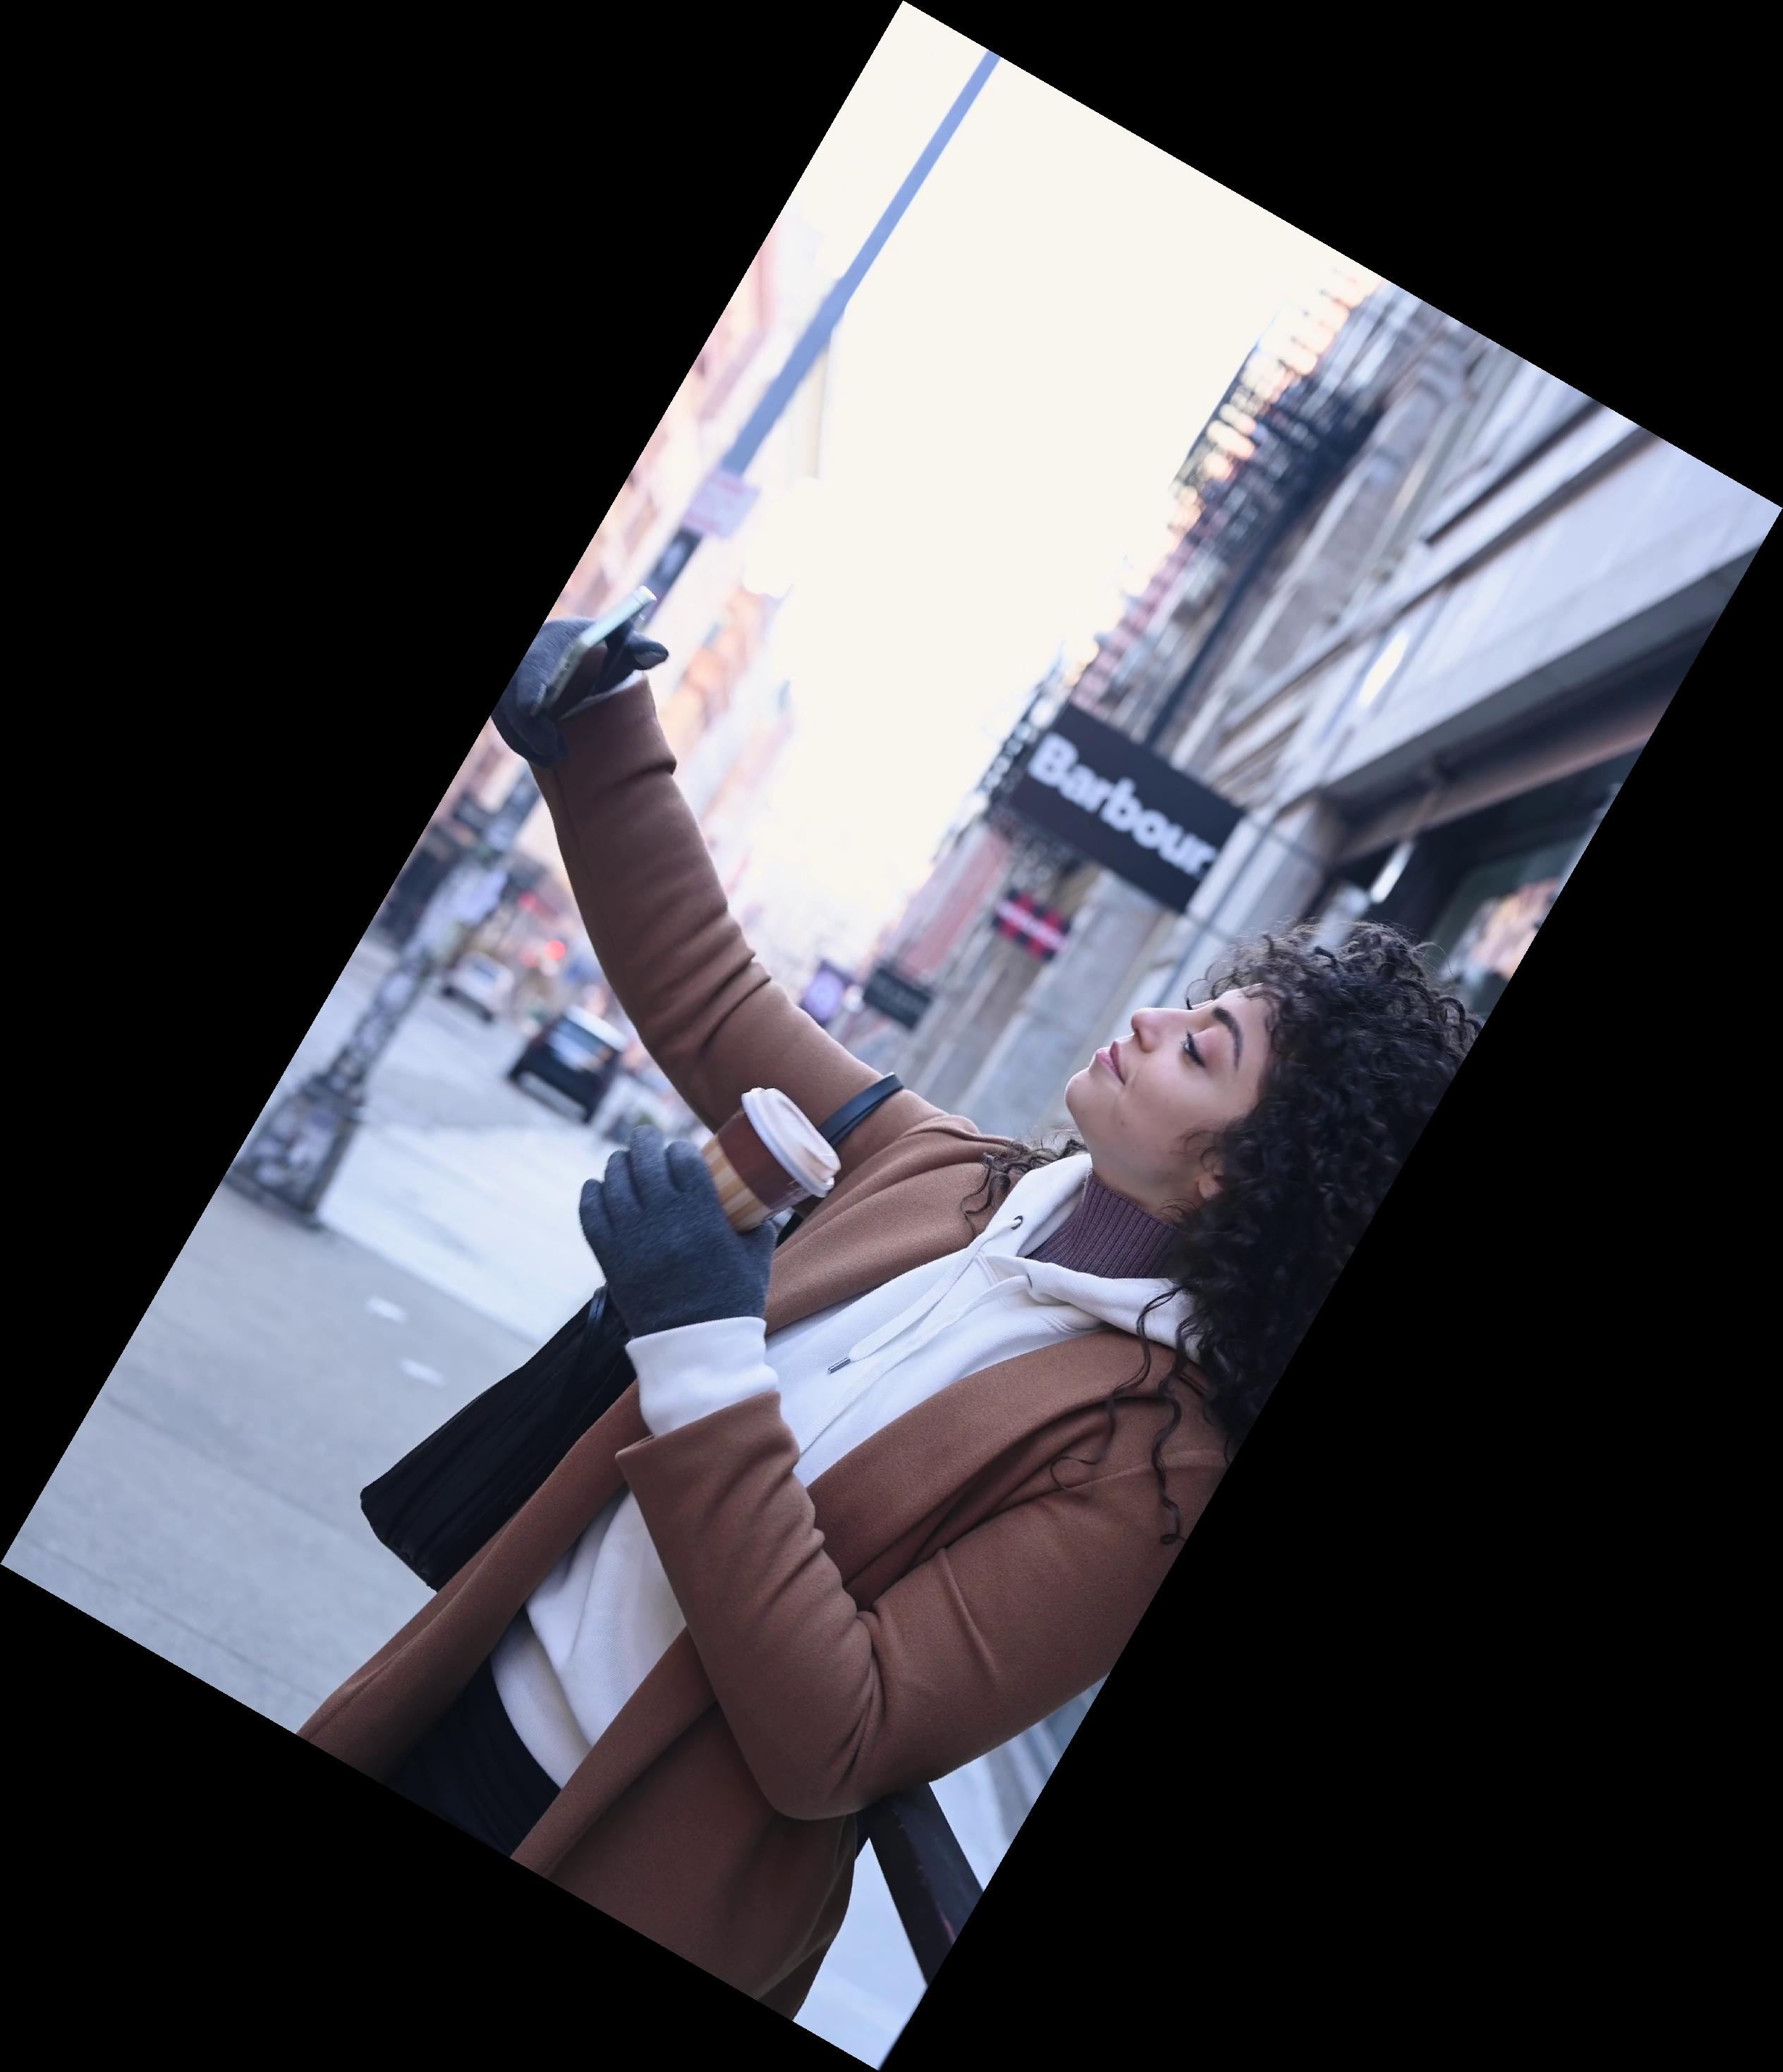phone: (527, 574, 673, 736)
